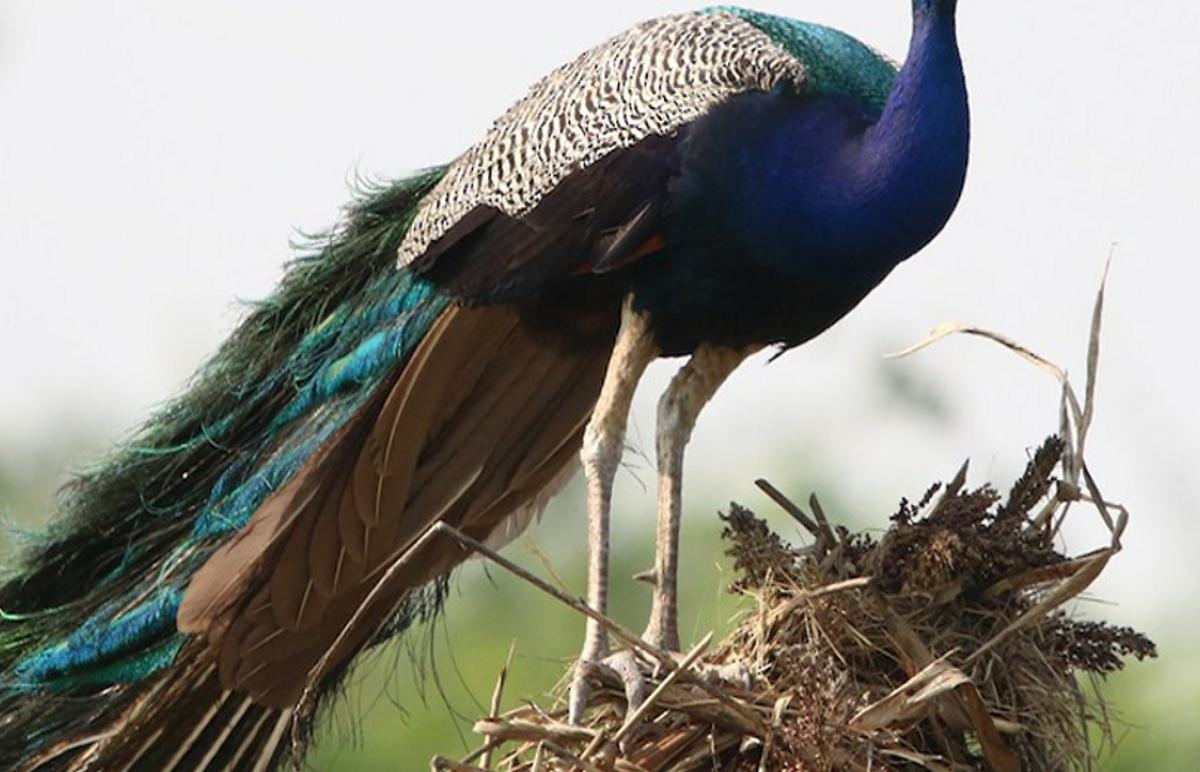peacock: (1, 4, 1008, 718)
